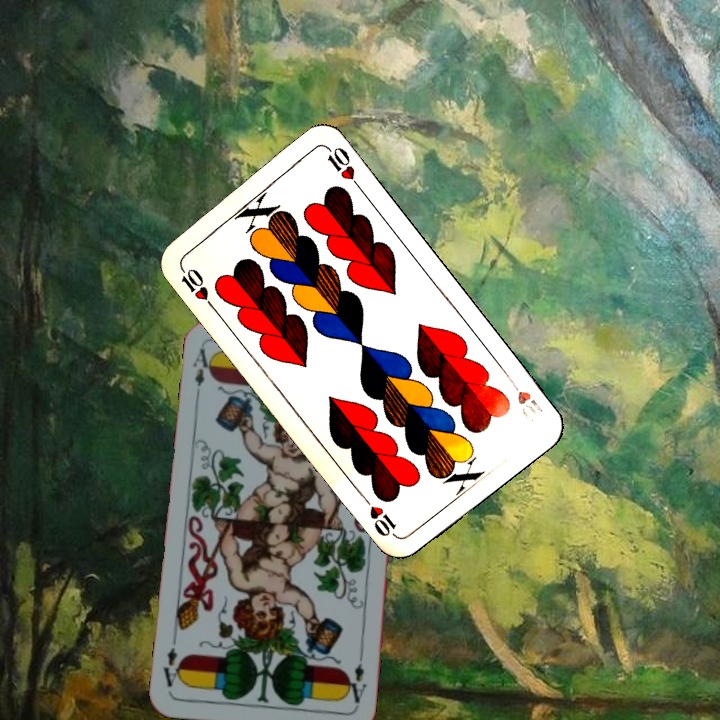EA: (342, 659, 369, 710), (188, 344, 217, 389)
H10: (504, 372, 546, 423), (175, 261, 217, 311)
